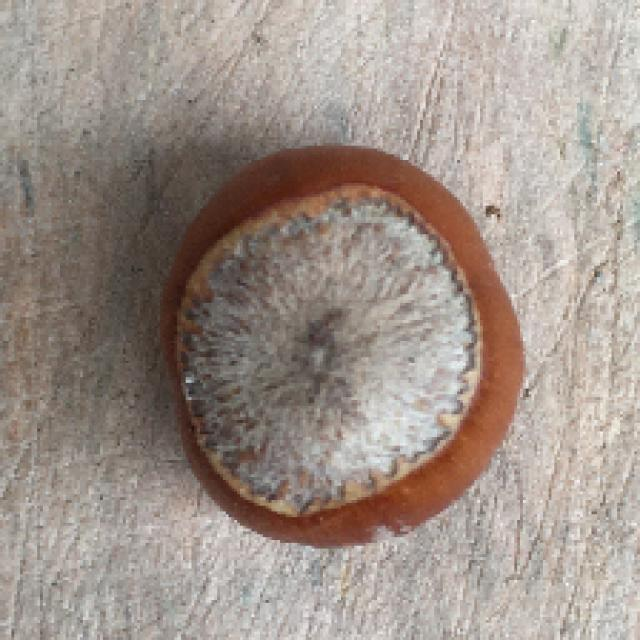qualityHazelnut: (159, 146, 530, 553)
